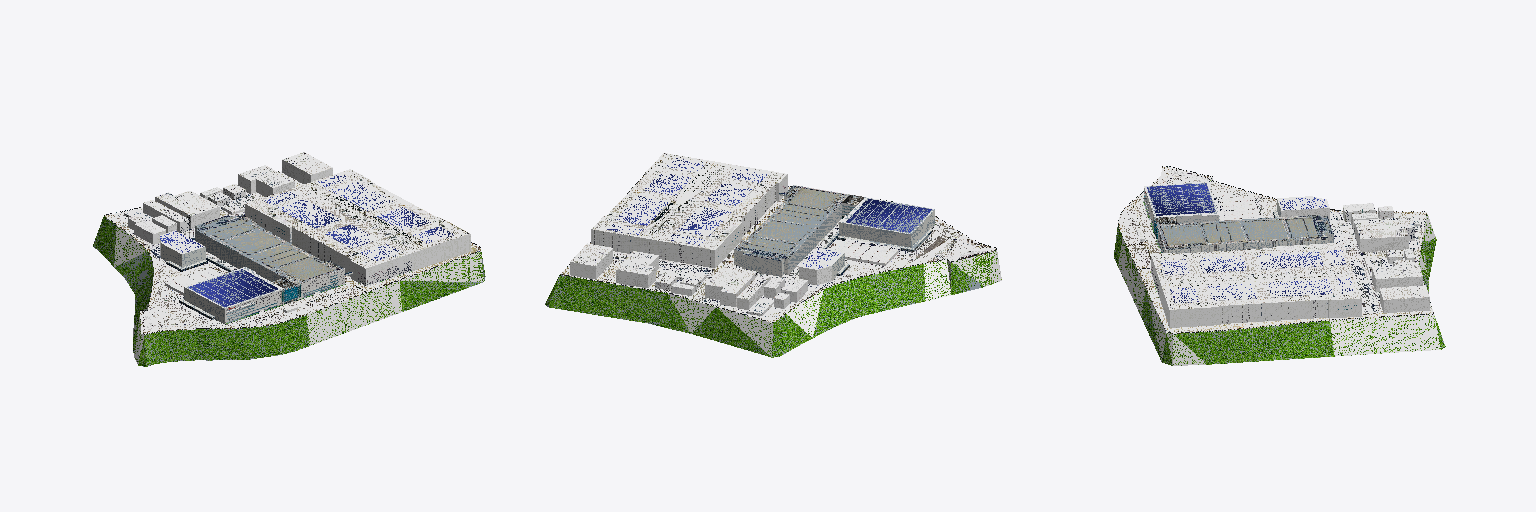
The picture shows the model from 3 angles: view 1: azimuth 30°, elevation 25°; view 2: azimuth 150°, elevation 25°; view 3: azimuth 270°, elevation 25°; orthographic projection.
Visible parts, largest first — view 1: Mesh5 Model, Mesh12 Model, Mesh10 Model, Mesh11 Model, Mesh13 Model; view 2: Mesh5 Model, Mesh12 Model, Mesh10 Model, Mesh11 Model, Mesh13 Model; view 3: Mesh5 Model, Mesh12 Model, Mesh11 Model, Mesh10 Model.
Part boxes in pixels (x1,y1,x2,y2): Mesh5 Model: (93, 169, 485, 366); Mesh12 Model: (155, 191, 219, 228); Mesh10 Model: (238, 165, 294, 196); Mesh11 Model: (282, 152, 332, 183); Mesh13 Model: (143, 200, 188, 232); Mesh5 Model: (545, 153, 1001, 357); Mesh12 Model: (705, 265, 757, 306); Mesh10 Model: (616, 251, 658, 287); Mesh11 Model: (570, 243, 612, 279); Mesh13 Model: (737, 274, 770, 309); Mesh5 Model: (1114, 166, 1445, 365); Mesh12 Model: (1355, 220, 1414, 251); Mesh11 Model: (1380, 285, 1429, 312); Mesh10 Model: (1372, 262, 1422, 292).
Bounding box in the file's own units: 29256 × 3842 × 23862.
32 materials, 25 textured.